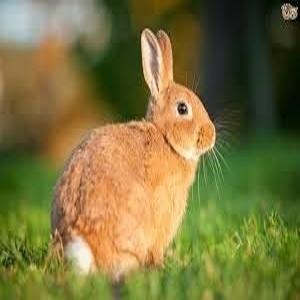rabbit: (52, 28, 216, 281)
